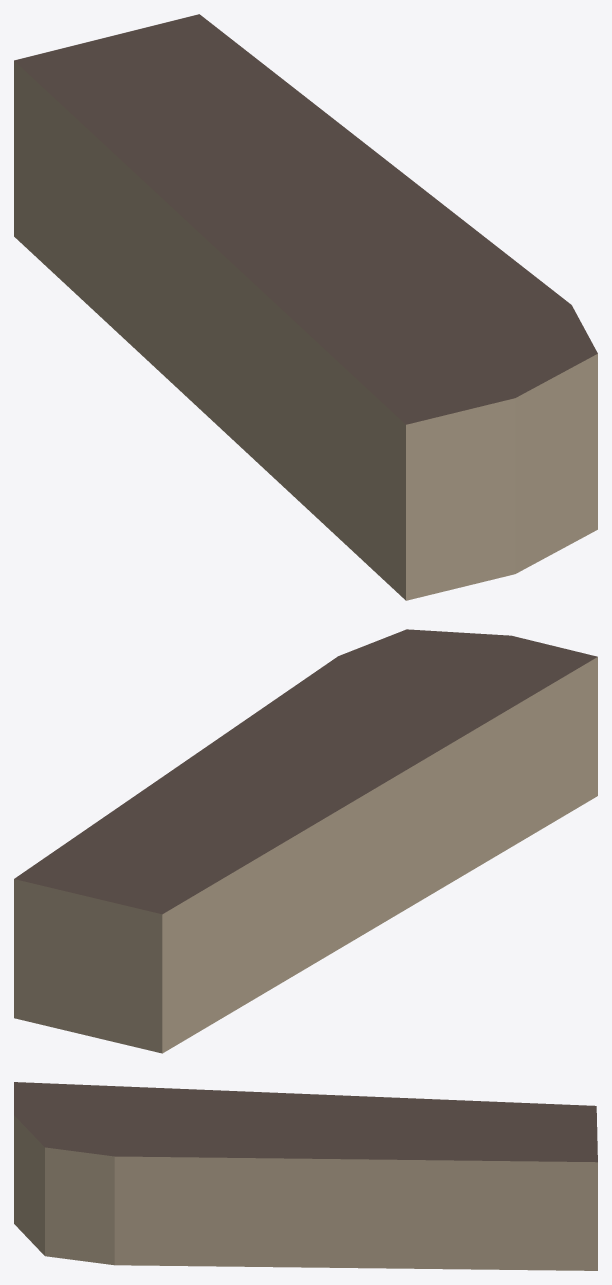
3 views of the same model, one above another, from view 1: azimuth 30°, elevation 25°; view 2: azimuth 150°, elevation 25°; view 3: azimuth 270°, elevation 25° (orthographic). The views are drawn at different scales.
Parts seen in each view (by area): view 1: HP-w1512965879; view 2: HP-w1512965879; view 3: HP-w1512965879.
Boxes of the visible parts, box(x1,y1,x2,y2) form: HP-w1512965879: box(14, 14, 597, 600); HP-w1512965879: box(14, 629, 597, 1053); HP-w1512965879: box(14, 1082, 597, 1270).
Bounding box in the file's own units: 14.23 × 9 × 43.78.
